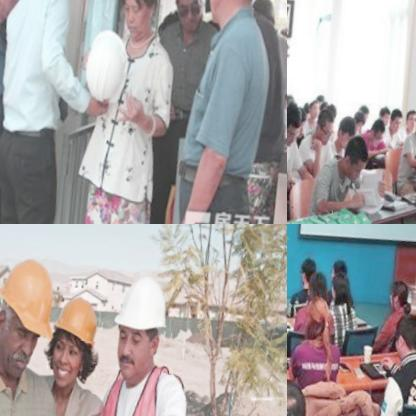head: (294, 294, 330, 347), (333, 134, 370, 185), (385, 317, 416, 369), (308, 107, 332, 149), (329, 117, 356, 154), (299, 273, 327, 308), (321, 275, 347, 309), (359, 118, 384, 153), (380, 282, 404, 318), (290, 260, 314, 291), (287, 373, 304, 416), (287, 103, 302, 149), (322, 259, 345, 289), (288, 109, 307, 143), (382, 108, 404, 137), (398, 108, 416, 137), (351, 104, 369, 128), (302, 97, 319, 122), (346, 113, 362, 138), (373, 106, 389, 129), (406, 107, 416, 140)
helmet: (0, 249, 74, 388), (96, 270, 180, 392), (29, 281, 110, 402), (189, 0, 274, 38)
